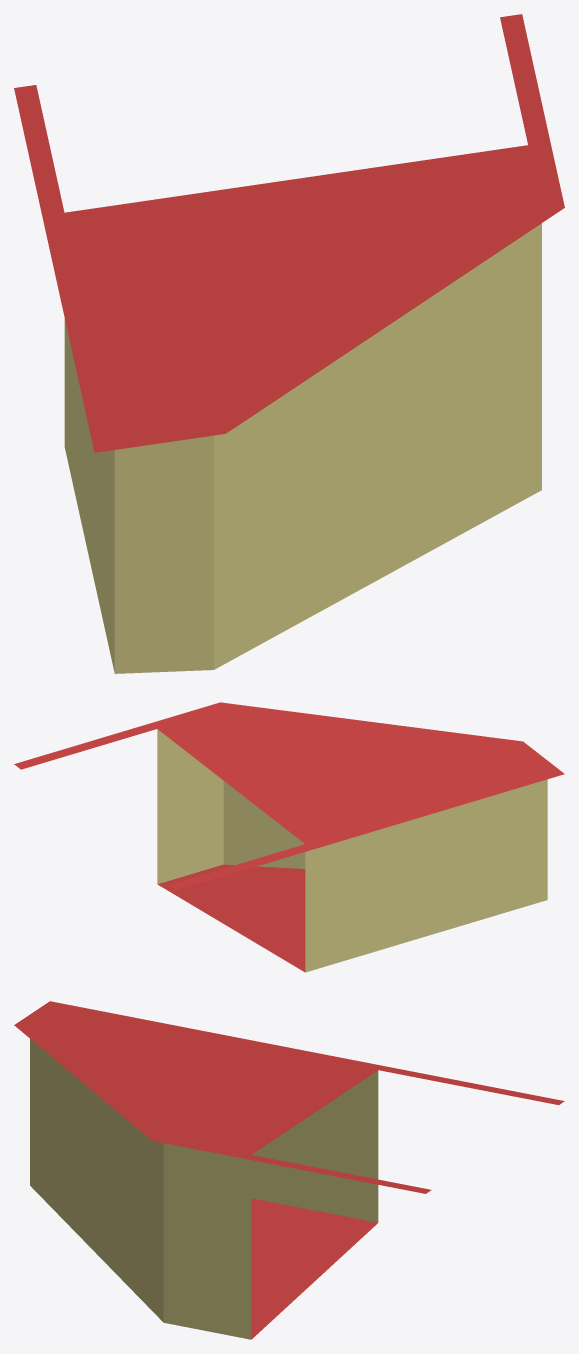
3 views of the same model, one above another, from view 1: azimuth 30°, elevation 25°; view 2: azimuth 150°, elevation 25°; view 3: azimuth 270°, elevation 25° (orthographic). The views are drawn at different scales.
Size of the model in its own units: 18.41 by 18.8 by 7.02.
